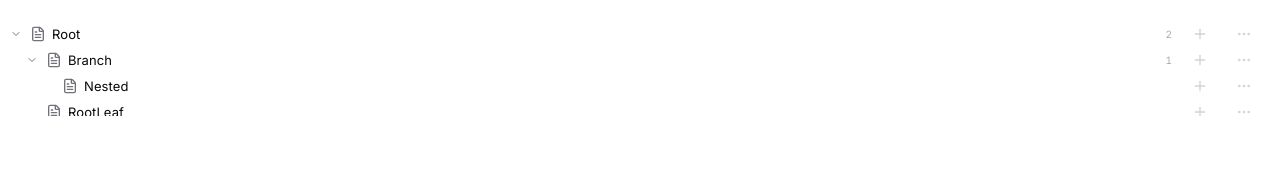
Test: <VirtualizedPageTree> chevron + child-count badges (v0.10.2 S8) › collapsing a mid-level page hides only ITS subtree
The image size is (1267, 172).
Click the button named "sidebar.pages.toggleChildren" next to "Branch": (32, 60) [24,52,40,68]
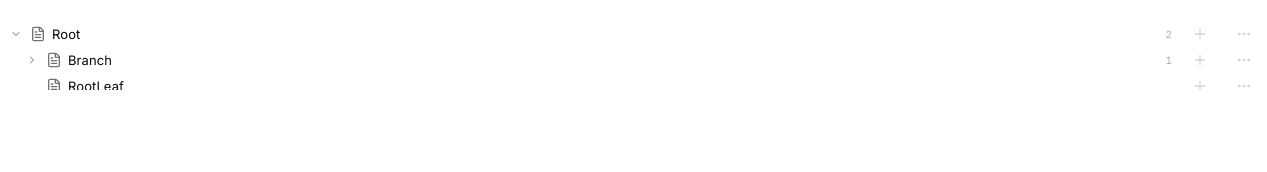
Expected: the text "Branch" is shown, [68,52,112,68]
Now the text "Nested" is gone
